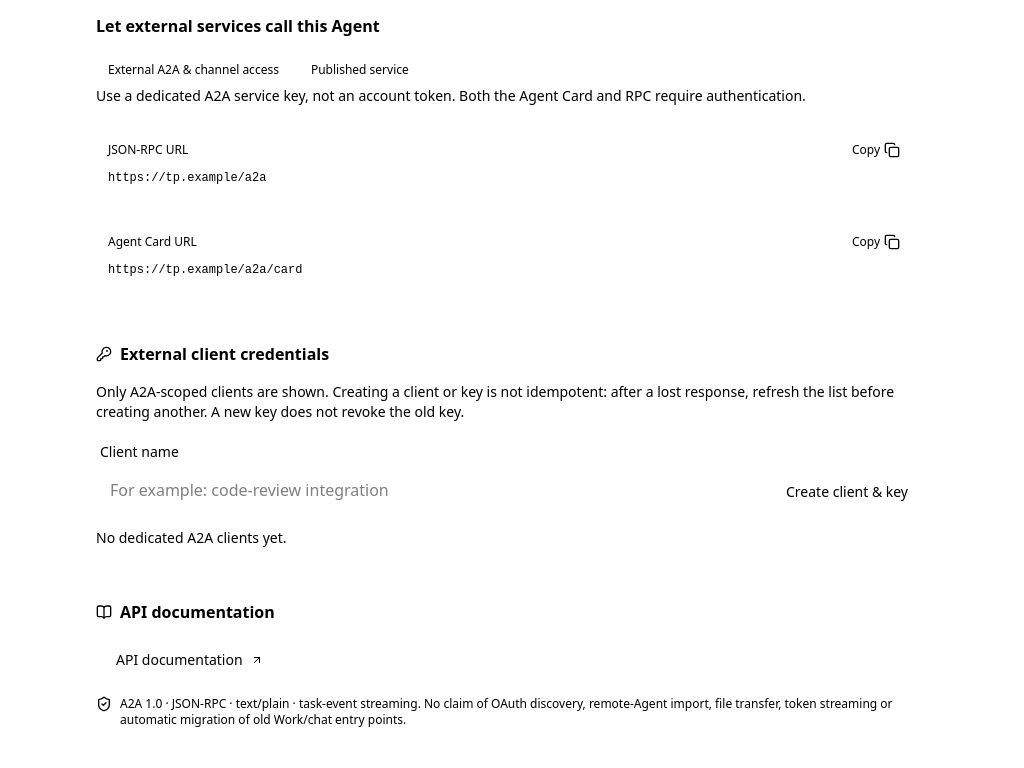
Test: Agent A2A console panel › preserves the one-time credential when a subsequent list refresh fails; no automatic retry
(page scrolled)
Expected: the heading "Let external services call this Agent" is shown, [96, 15, 380, 37]
Step 1. Type "integration" into the field labelled "Client name" → (425, 490), box [96, 468, 754, 512]
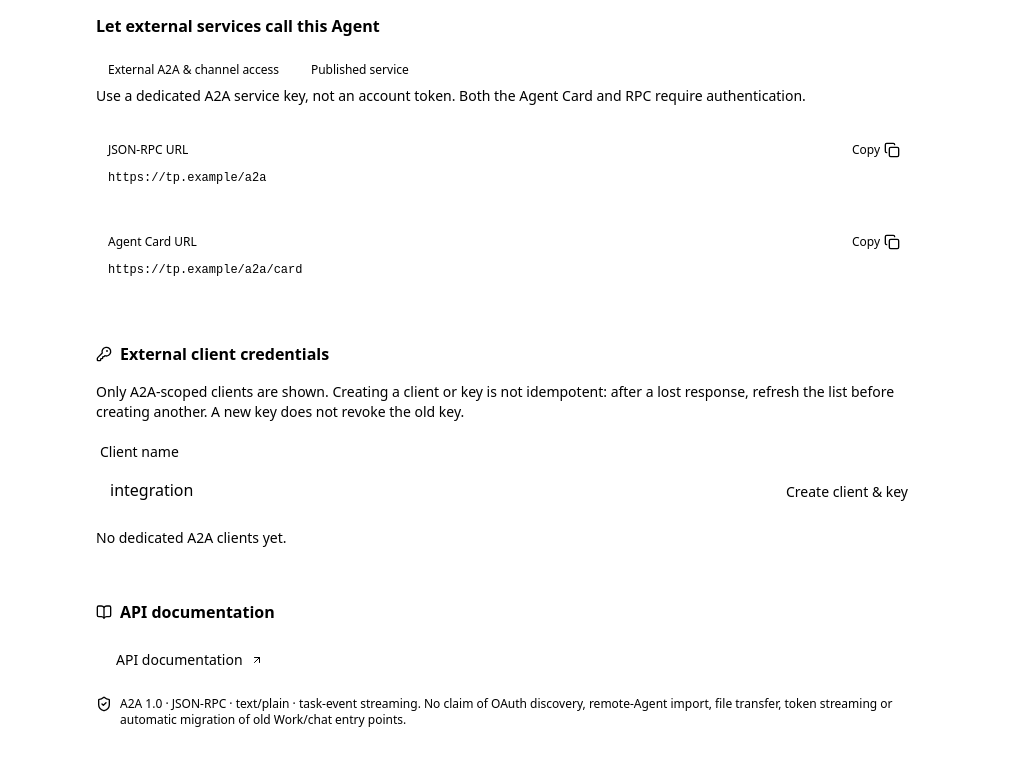
Step 2. Click the button "Create client & key" → (847, 492), box [766, 472, 928, 512]
(page scrolled)
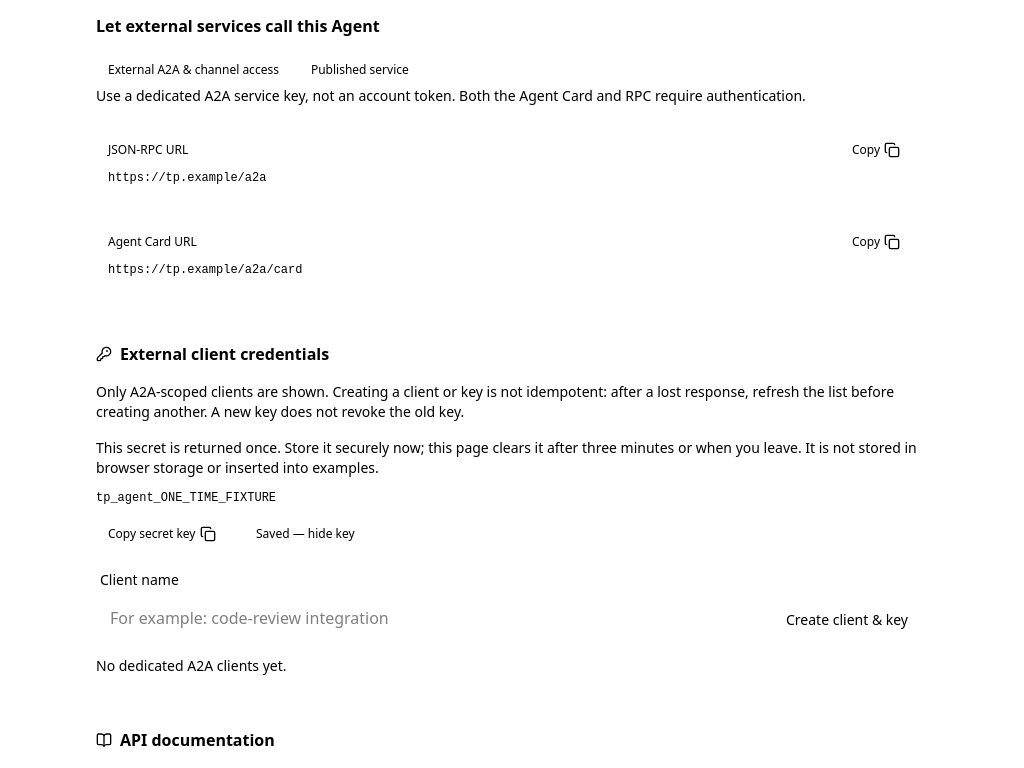
Expected: the text "tp_agent_ONE_TIME_FIXTURE" is shown, [96, 491, 276, 505]
Expected: the button "Create client & key" is disabled, [766, 600, 928, 640]
Step 3. Click the button "Saved — hide key" → (305, 534), box [244, 518, 367, 550]
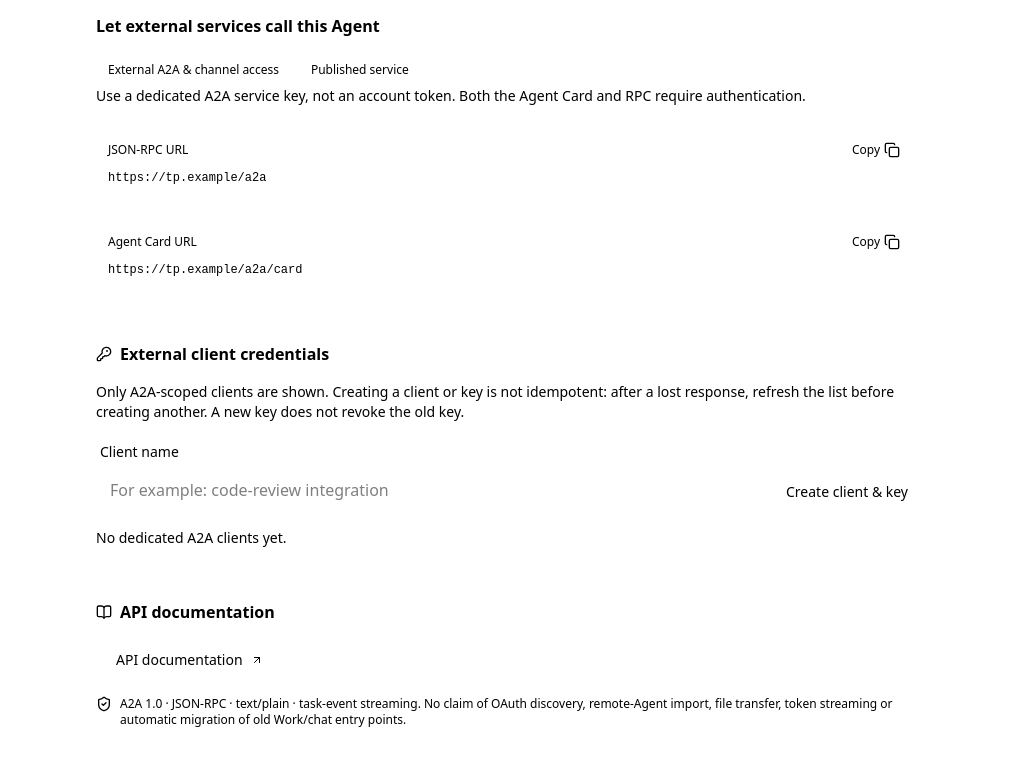
Expected: the text "tp_agent_ONE_TIME_FIXTURE" is gone
